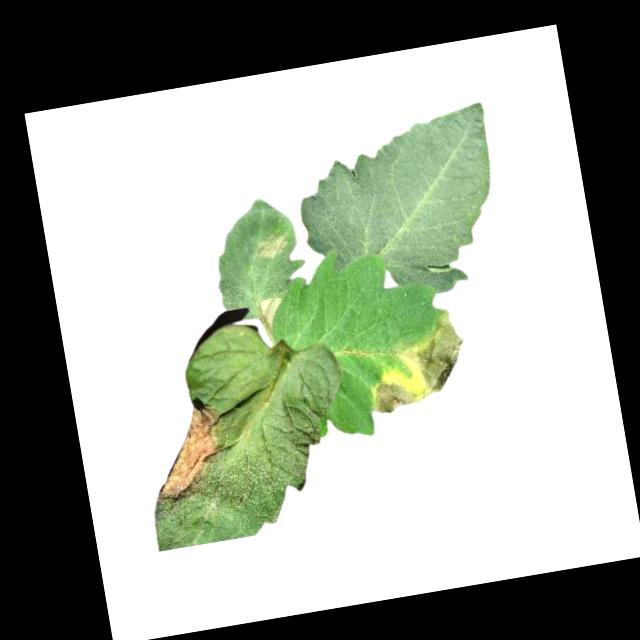Late_blight: (142, 398, 235, 509), (405, 306, 475, 397), (368, 372, 424, 415), (257, 296, 288, 337), (254, 232, 290, 262)
